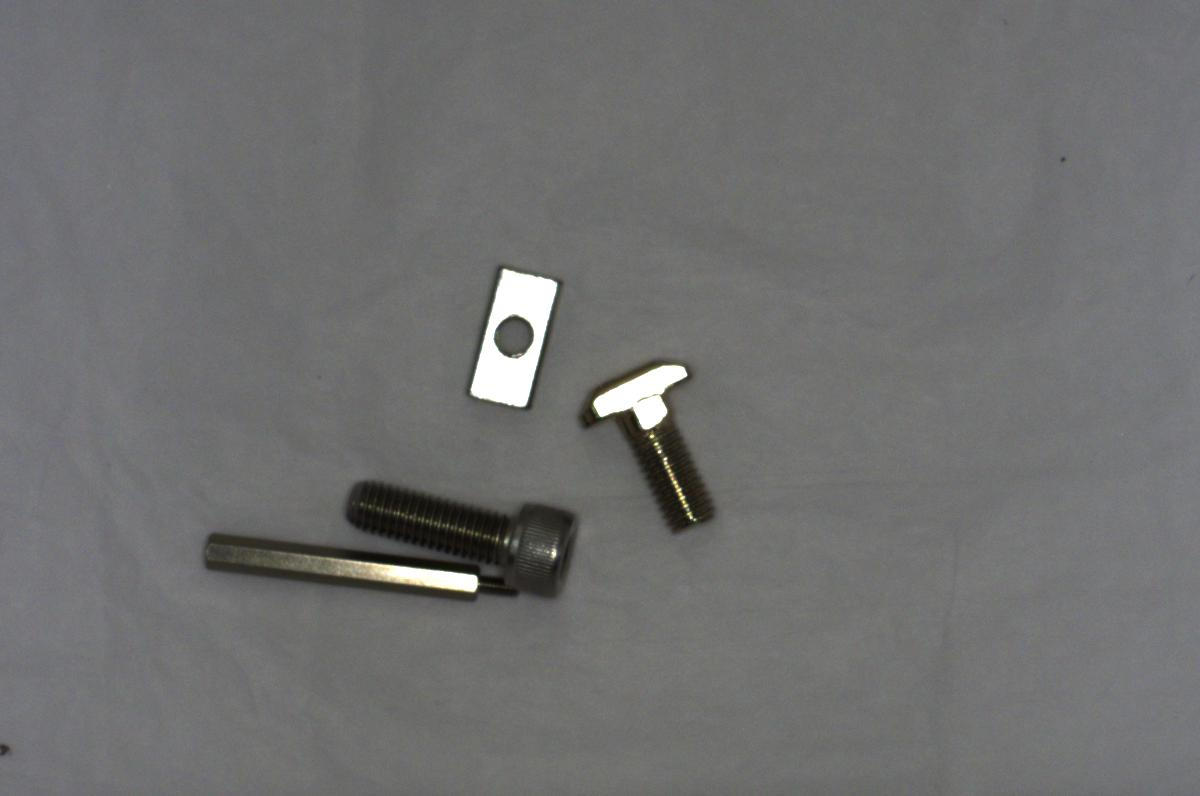Hexagon screw: (334, 467, 592, 594)
Hexagonal steel column: (181, 520, 526, 610)
Rectangular nut: (466, 263, 566, 410)
T-shaped screw: (575, 335, 721, 541)
